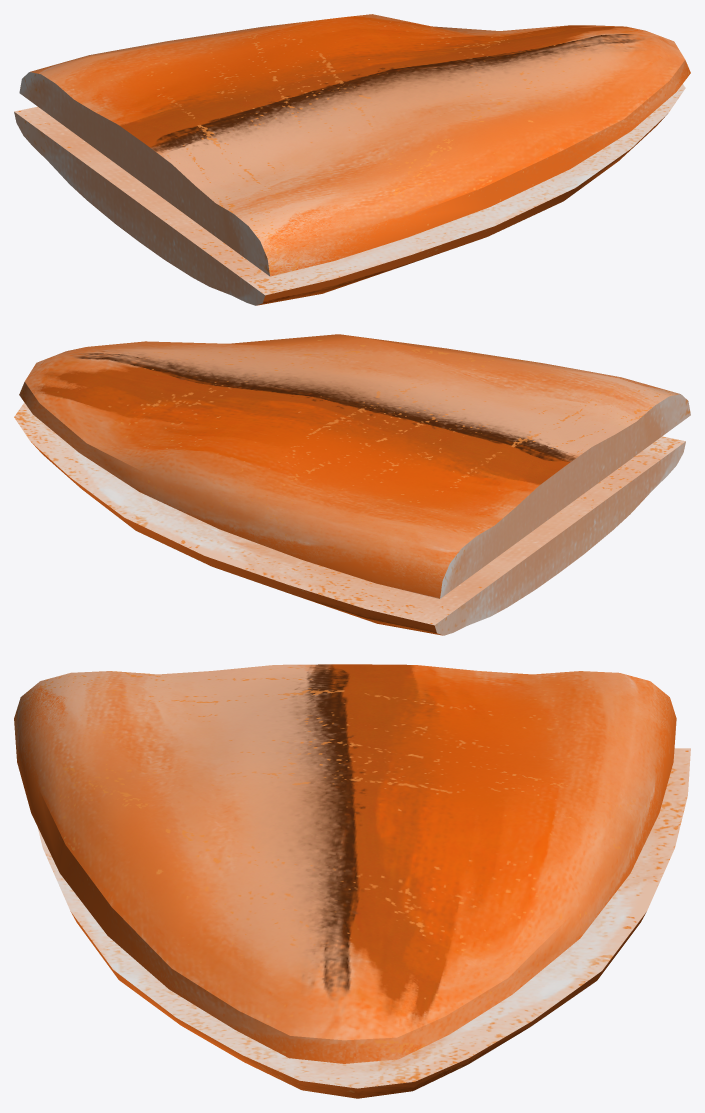
The model's file is ekmek_yarim_basilmis.fbx.
3 views of the same model, one above another, from view 1: azimuth 30°, elevation 25°; view 2: azimuth 150°, elevation 25°; view 3: azimuth 270°, elevation 25° (orthographic). The views are drawn at different scales.
Visible parts, largest first — view 1: Sphere.006, Sphere.007; view 2: Sphere.006, Sphere.007; view 3: Sphere.006, Sphere.007.
Boxes of the visible parts, x1,y1,x2,y2 form: Sphere.006: (19, 14, 690, 276); Sphere.007: (14, 84, 685, 305); Sphere.006: (19, 334, 690, 598); Sphere.007: (14, 402, 685, 635); Sphere.006: (14, 664, 676, 1063); Sphere.007: (37, 748, 690, 1098).
Size of the model in its own units: 145 by 29.55 by 121.
